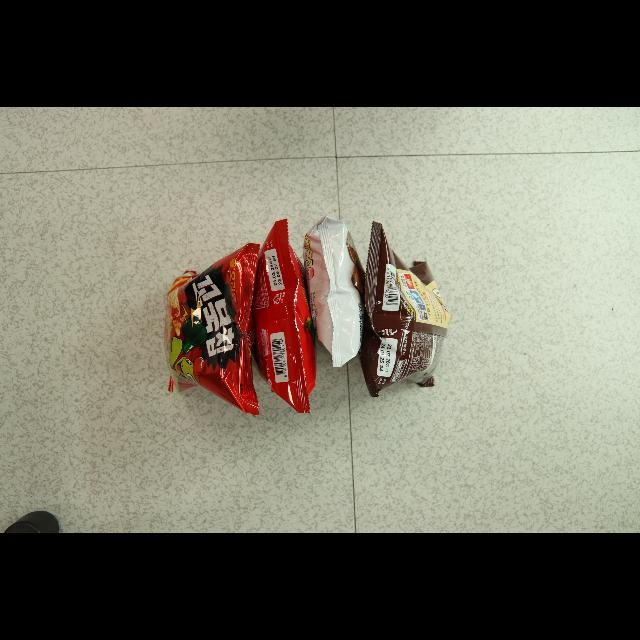bongji: (164, 243, 260, 416), (360, 221, 451, 398), (252, 219, 316, 414), (303, 216, 364, 367)
